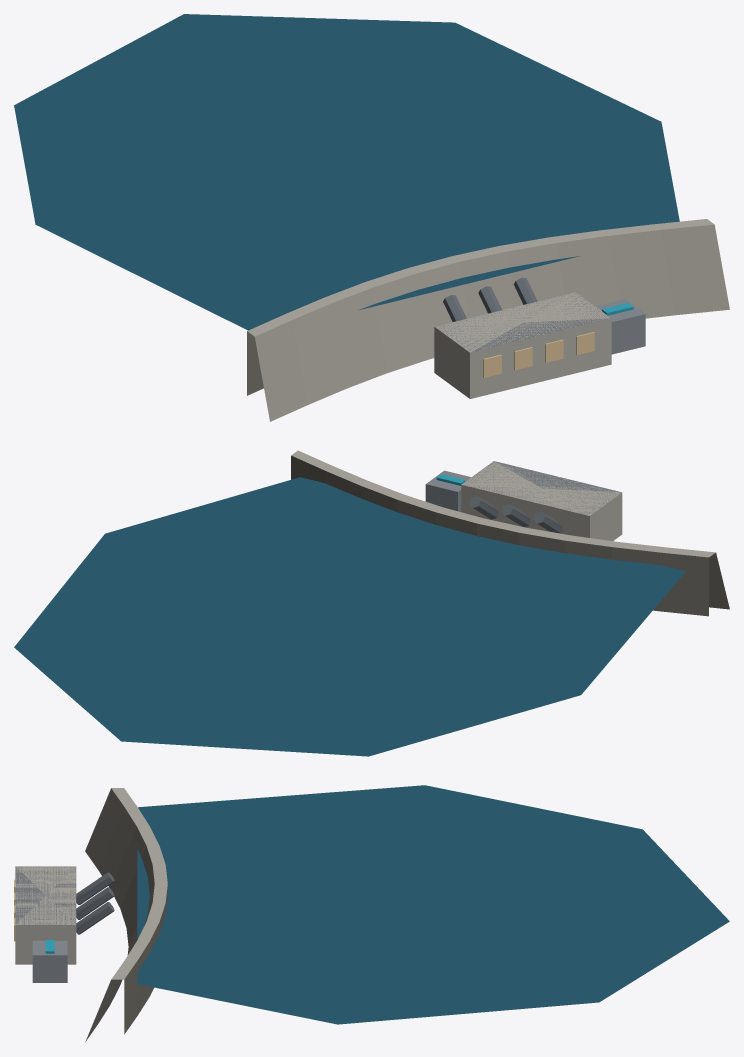
Rendered from plant_hydro_l3.fbx.
3 views of the same model, one above another, from view 1: azimuth 30°, elevation 25°; view 2: azimuth 150°, elevation 25°; view 3: azimuth 270°, elevation 25° (orthographic). The views are drawn at different scales.
Visible parts, largest first — view 1: plant_hydro_l3; view 2: plant_hydro_l3; view 3: plant_hydro_l3.
Boxes of the visible parts, <box> form: plant_hydro_l3: <box>14,14,729,421</box>; plant_hydro_l3: <box>14,450,729,756</box>; plant_hydro_l3: <box>14,785,729,1041</box>.
Bounding box in the file's own units: 130 × 16 × 164.
